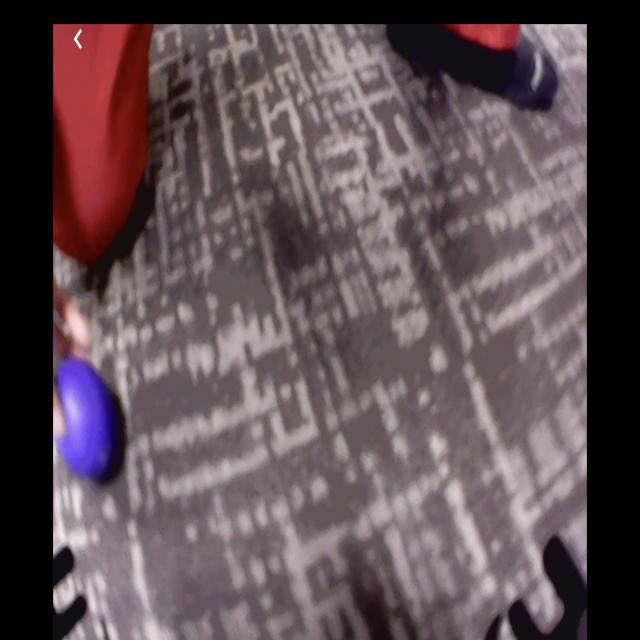ball: (56, 360, 121, 483)
